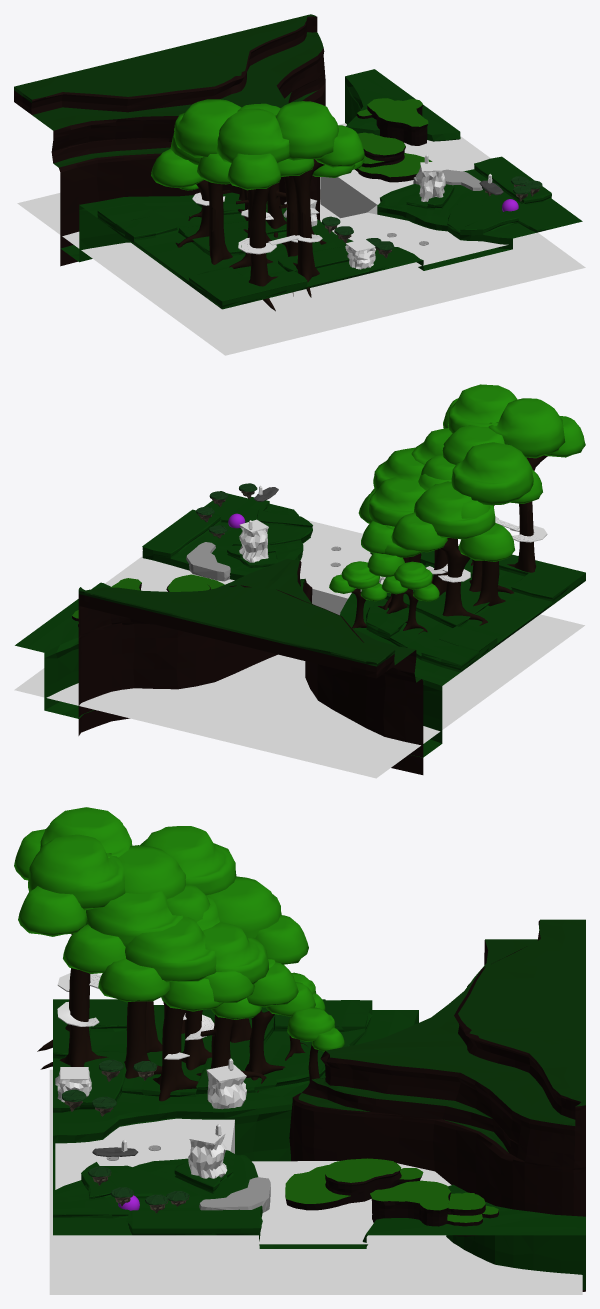
Rendered from SM_Tutorial_Level.FBX.
3 views of the same model, one above another, from view 1: azimuth 30°, elevation 25°; view 2: azimuth 150°, elevation 25°; view 3: azimuth 270°, elevation 25° (orthographic). The views are drawn at different scales.
Visible parts, largest first — view 1: Cliff, Ground, Water_2, Water, SM_Tree_003, SM_Tree_004, SM_Tree_006, SM_Island_1, SM_Hill_1, SM_Tree_1, SM_Tree_001, SM_Tree_002 (+4 smaller); view 2: Cliff, Ground, Water_2, SM_Tree_1, Water, SM_Tree_006, SM_Tree_003, SM_Tree_008, SM_Tree_001, SM_Tree_004, SM_Tree_010, SM_Tree_011 (+7 smaller); view 3: Cliff, Ground, Water_2, Water, SM_Tree_004, SM_Tree_005, SM_Tree_002, SM_Tree_008, SM_Tree_1, SM_Island_1, SM_Tree_001, SM_Hill_1 (+9 smaller).
Boxes of the visible parts, x1=… form: Cliff: x1=14, y1=14, x2=325, y2=266; Ground: x1=60, y1=69, x2=582, y2=309; Water_2: x1=17, y1=123, x2=585, y2=355; Water: x1=320, y1=136, x2=516, y2=276; SM_Tree_003: x1=216, y1=108, x2=314, y2=311; SM_Tree_004: x1=275, y1=101, x2=364, y2=297; SM_Tree_006: x1=174, y1=99, x2=241, y2=264; SM_Island_1: x1=355, y1=132, x2=432, y2=182; SM_Hill_1: x1=356, y1=98, x2=428, y2=145; SM_Tree_1: x1=151, y1=128, x2=209, y2=247; SM_Tree_001: x1=197, y1=103, x2=280, y2=268; SM_Tree_002: x1=279, y1=164, x2=355, y2=256; Cliff: x1=78, y1=559, x2=423, y2=774; Ground: x1=15, y1=493, x2=585, y2=757; Water_2: x1=14, y1=614, x2=584, y2=778; SM_Tree_1: x1=391, y1=481, x2=514, y2=625; Water: x1=105, y1=520, x2=371, y2=615; SM_Tree_006: x1=451, y1=442, x2=533, y2=606; SM_Tree_003: x1=488, y1=398, x2=585, y2=572; SM_Tree_008: x1=361, y1=477, x2=425, y2=609; SM_Tree_001: x1=421, y1=425, x2=542, y2=593; SM_Tree_004: x1=443, y1=384, x2=517, y2=565; SM_Tree_010: x1=381, y1=561, x2=439, y2=633; SM_Tree_011: x1=329, y1=561, x2=386, y2=631; Cliff: x1=289, y1=919, x2=585, y2=1291; Ground: x1=53, y1=999, x2=585, y2=1290; Water_2: x1=49, y1=1069, x2=582, y2=1294; Water: x1=55, y1=1118, x2=451, y2=1244; SM_Tree_004: x1=18, y1=834, x2=125, y2=1069; SM_Tree_005: x1=98, y1=917, x2=254, y2=1101; SM_Tree_002: x1=63, y1=891, x2=182, y2=1078; SM_Tree_008: x1=161, y1=922, x2=298, y2=1092; SM_Tree_1: x1=207, y1=876, x2=308, y2=1042; SM_Island_1: x1=285, y1=1158, x2=423, y2=1210; SM_Tree_001: x1=118, y1=845, x2=210, y2=1052; SM_Hill_1: x1=370, y1=1180, x2=498, y2=1236.
Size of the model in its own units: 127 by 82.37 by 136.
